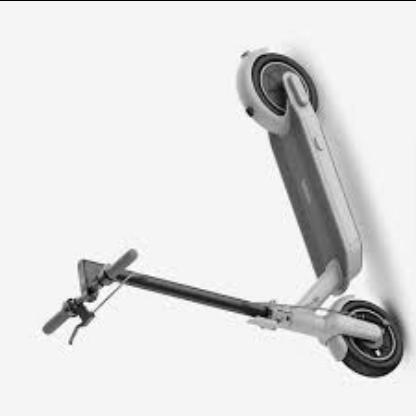bike: (31, 48, 405, 380)
